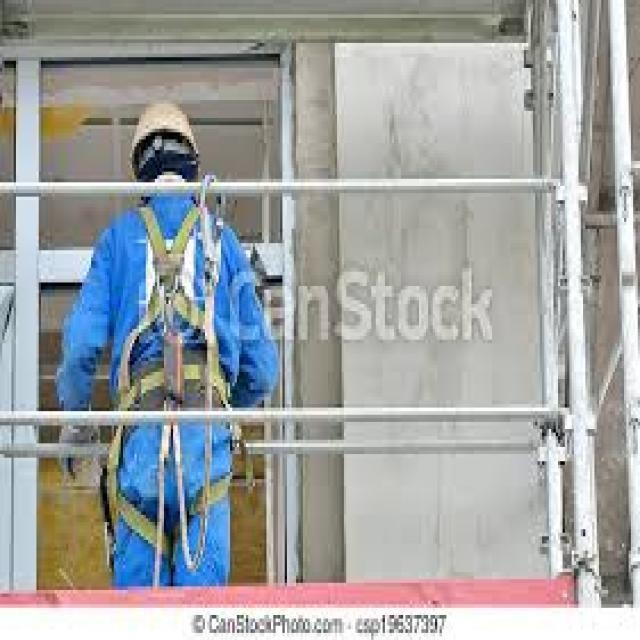Arnes_seguridad: (103, 191, 236, 565)
